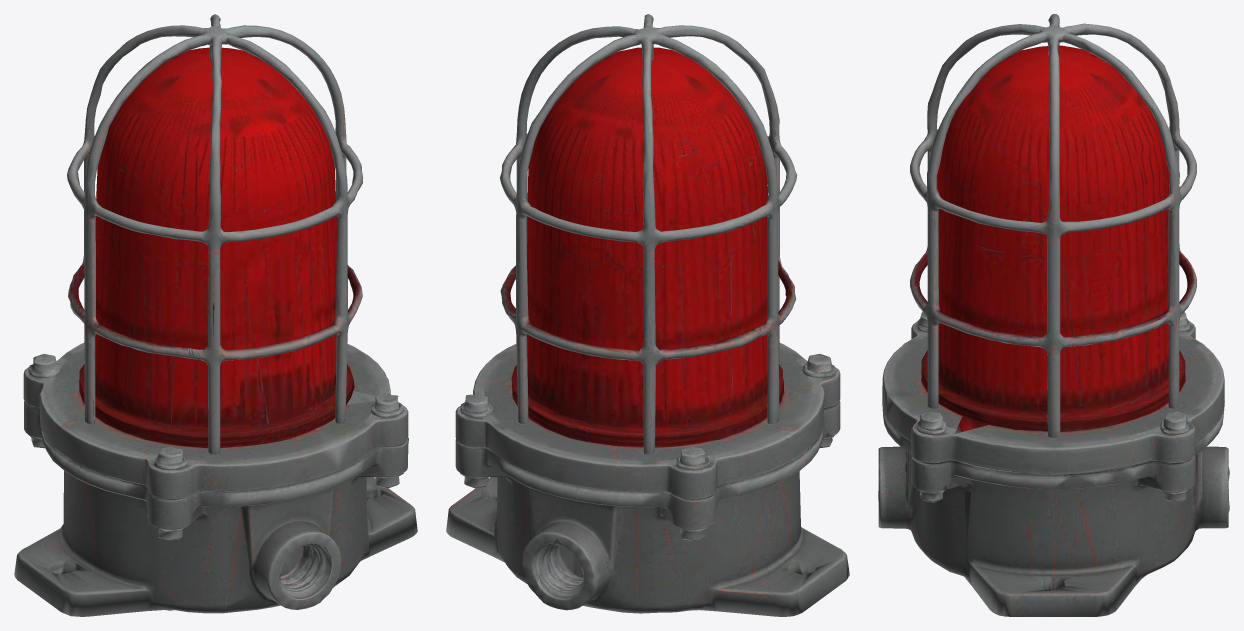
File: emergency_red_beacon.glb
The picture shows the model from 3 angles, left to right: view 1: azimuth 30°, elevation 25°; view 2: azimuth 150°, elevation 25°; view 3: azimuth 270°, elevation 25°; orthographic projection. The views are drawn at different scales.
Size of the model in its own units: 0.6733 by 0.9512 by 0.6006.
Materials: 1 (1 with a texture image).
